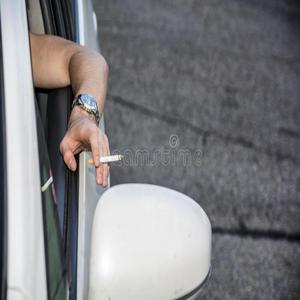cigarette: (88, 154, 126, 166)
